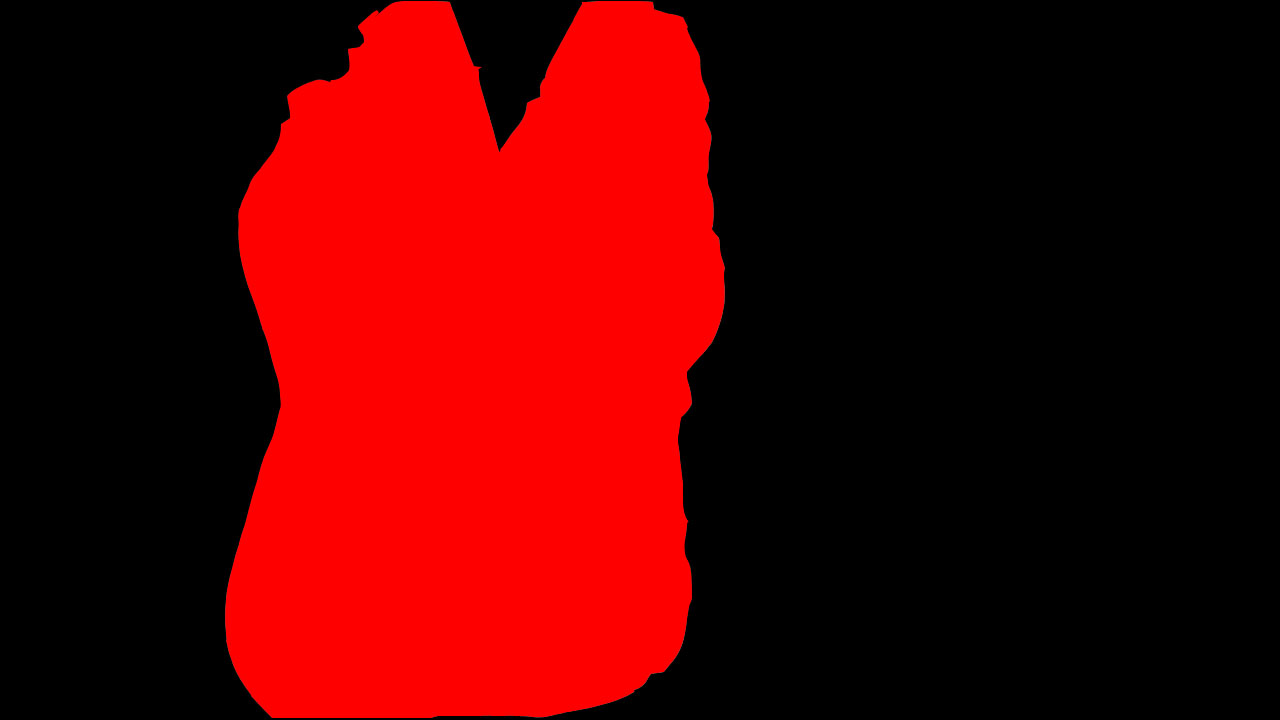uniforme_ifmt: (220, 4, 833, 720)
